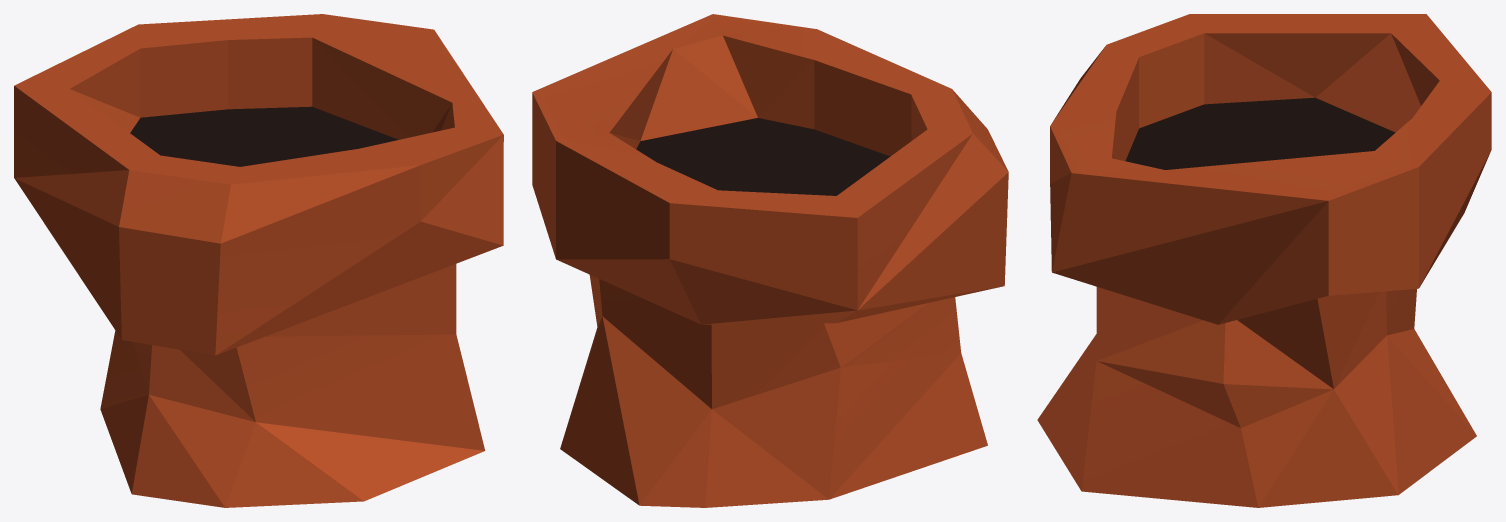
The model's file is Bag_2.fbx.
The picture shows the model from 3 angles, left to right: view 1: azimuth 30°, elevation 25°; view 2: azimuth 150°, elevation 25°; view 3: azimuth 270°, elevation 25°; orthographic projection. The views are drawn at different scales.
Parts seen in each view (by area): view 1: Bag_2; view 2: Bag_2; view 3: Bag_2.
Boxes of the visible parts, left/top/right/bottom form: Bag_2: left=14, top=14, right=503, bottom=507; Bag_2: left=532, top=14, right=1008, bottom=507; Bag_2: left=1037, top=14, right=1491, bottom=507.
Bounding box in the file's own units: 16.24 × 12.42 × 15.72.
